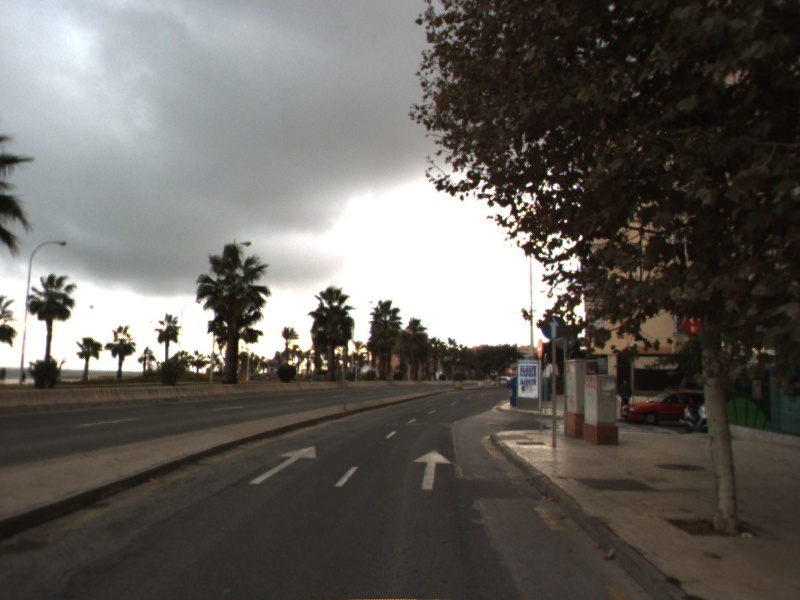STRAIGHT: (247, 443, 318, 485), (411, 448, 453, 491)
